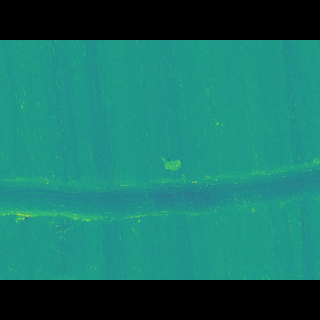Loch: (0, 156, 320, 207), (155, 156, 185, 169)
